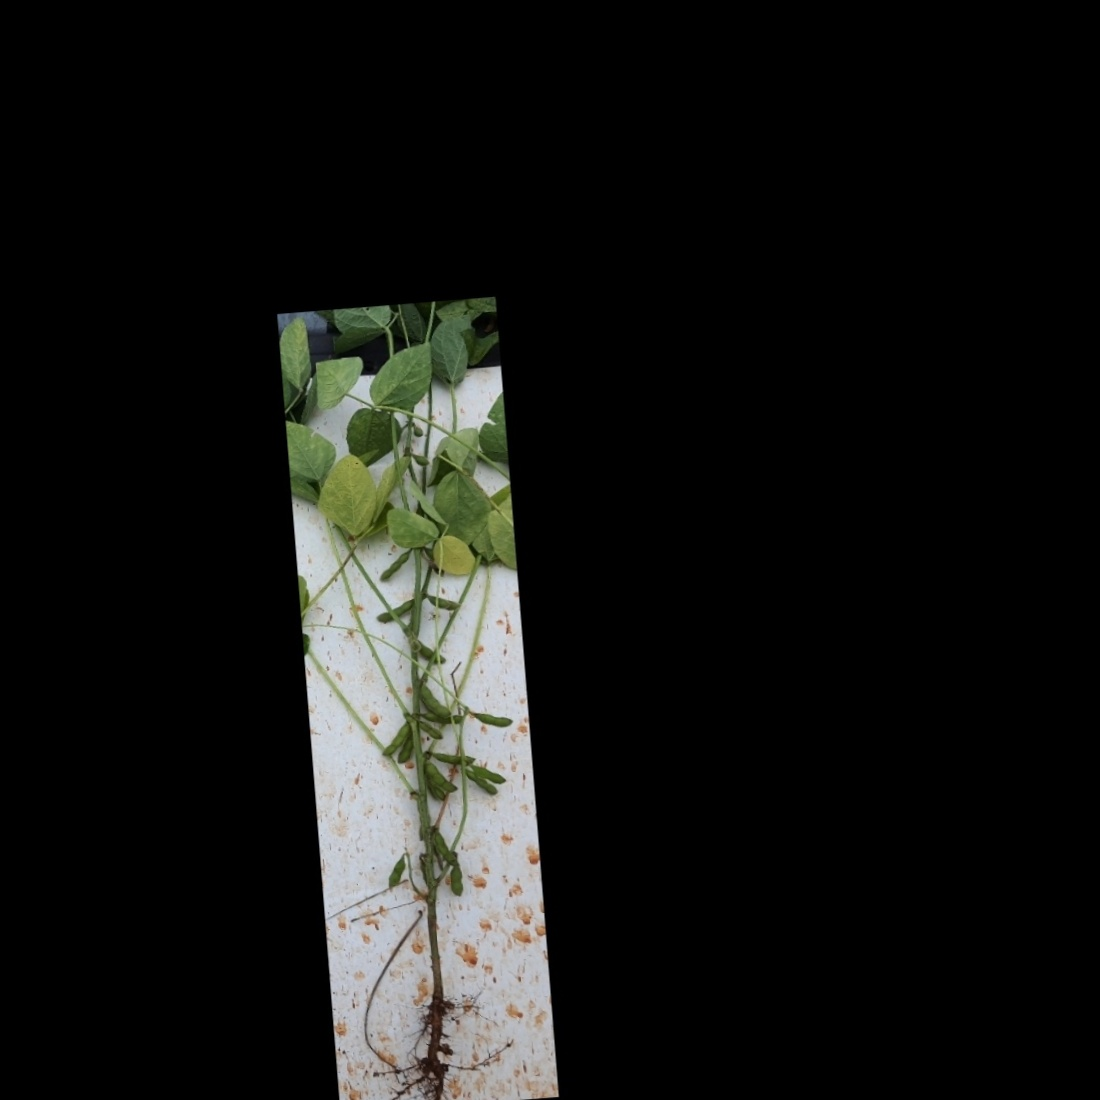pod: (374, 549, 414, 581), (427, 743, 477, 769), (433, 826, 461, 869), (467, 704, 514, 730), (383, 853, 411, 893), (414, 634, 447, 667), (374, 597, 419, 621), (424, 589, 463, 613), (447, 860, 466, 901), (416, 720, 447, 744), (394, 734, 417, 765)
soy: (299, 350, 541, 1088)
